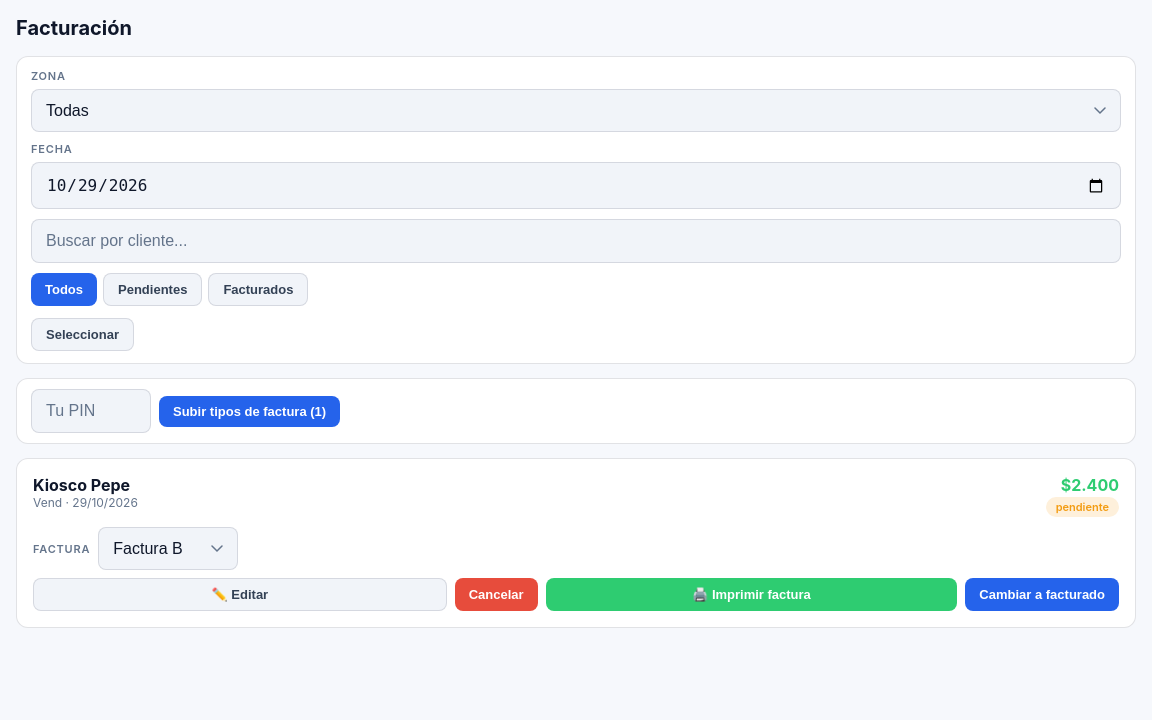
Test: AC-FAB-3 subir tipos de factura con PIN › AC-FAB-3 falta la migración: muestra el mensaje y deja pendiente
This screenshot has width=1152, height=720.
Click the button "Subir tipos de factura (1)".
click(250, 411)  # box [159,396,340,426]
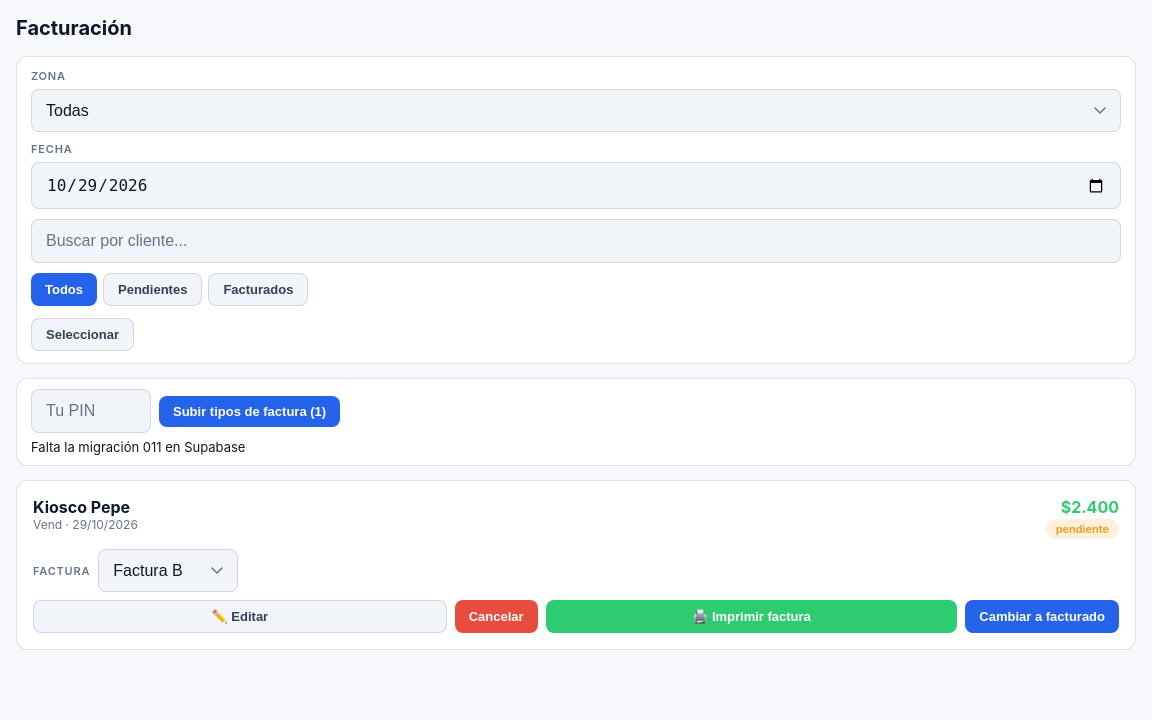
Check: the text "Falta la migración 011" is shown, box [31,439,245,455]
